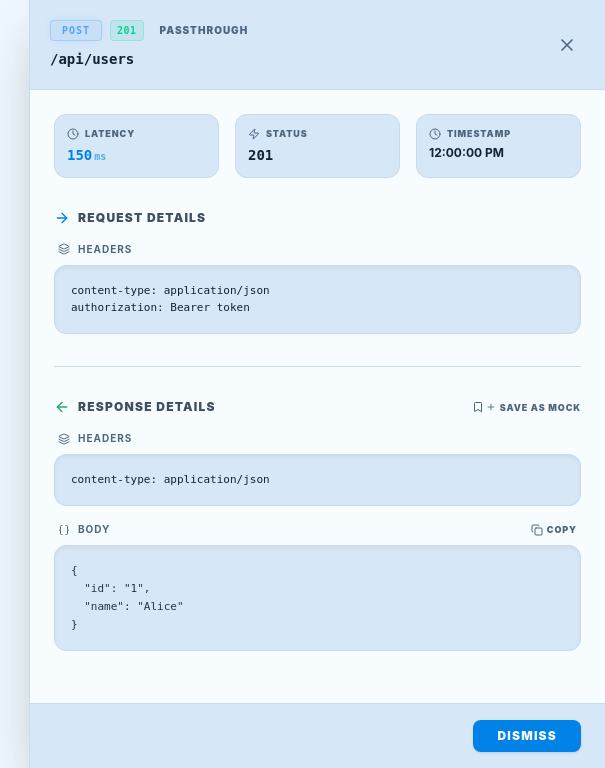
Test: RequestDetail › save as mock › shows save form when Save as mock is clicked
Click the button with aria-label "save as mock response". click: (526, 407)
box: [472, 400, 581, 414]
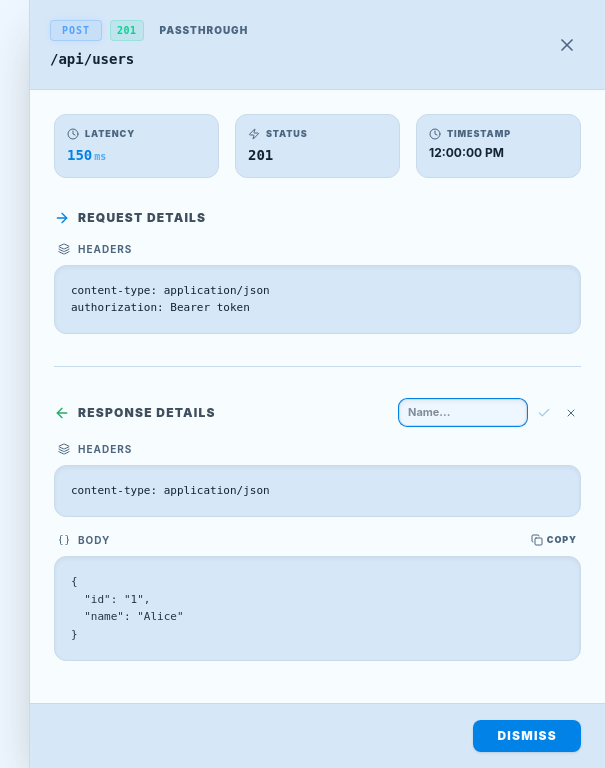
Now the field with placeholder "Name..." is shown, box [399, 399, 527, 426]
